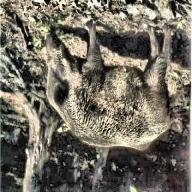boar: (36, 28, 192, 152)
